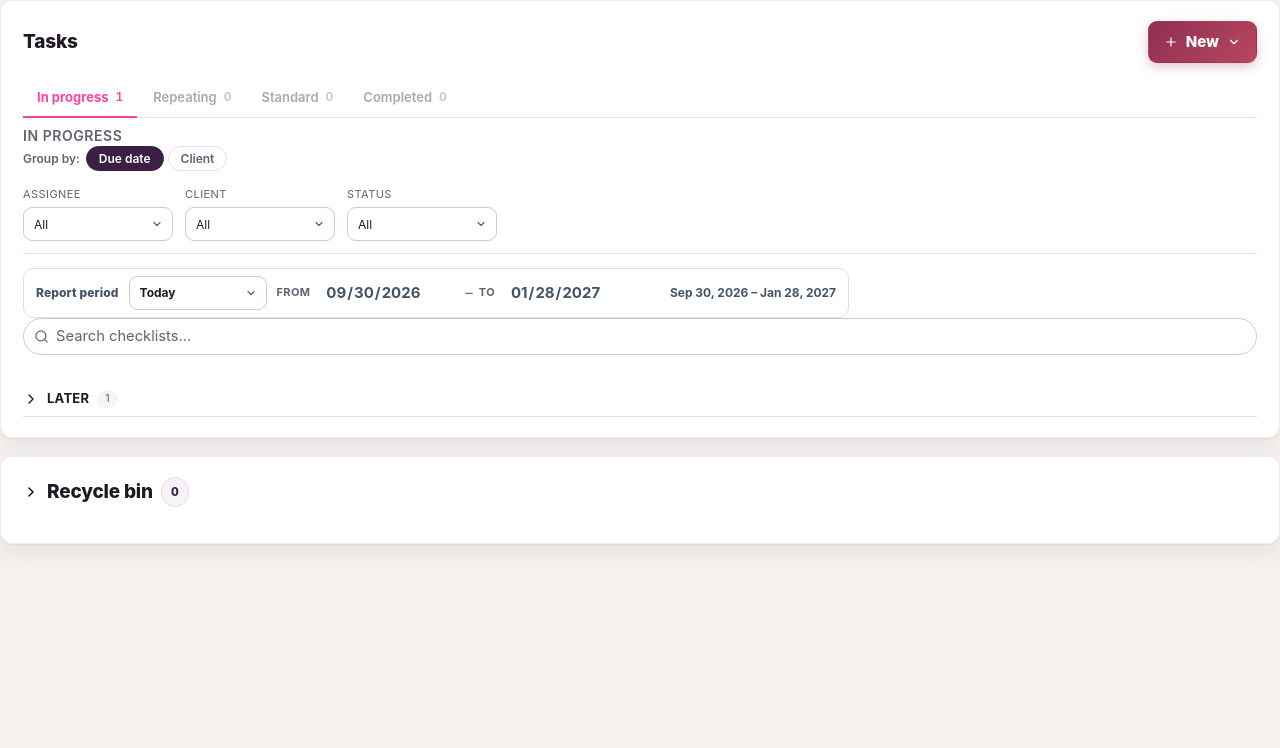
Scenario: Hide completed (N) › says "1 completed step hidden" for one
The width and height of the screenshot is (1280, 748).
Click the button "Later 1" at (68, 398), box [23,381,1257,417]
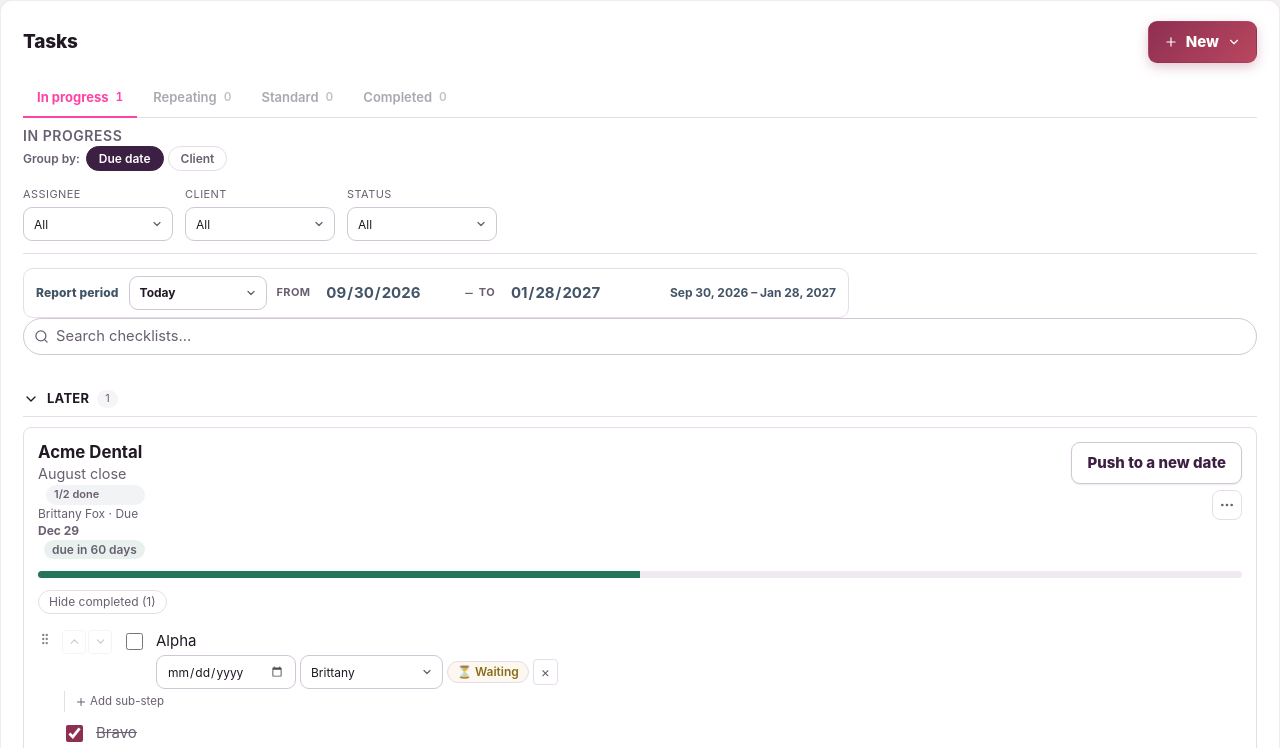
Click the button "Hide completed (1)" at (102, 602), box [38,590,166,614]
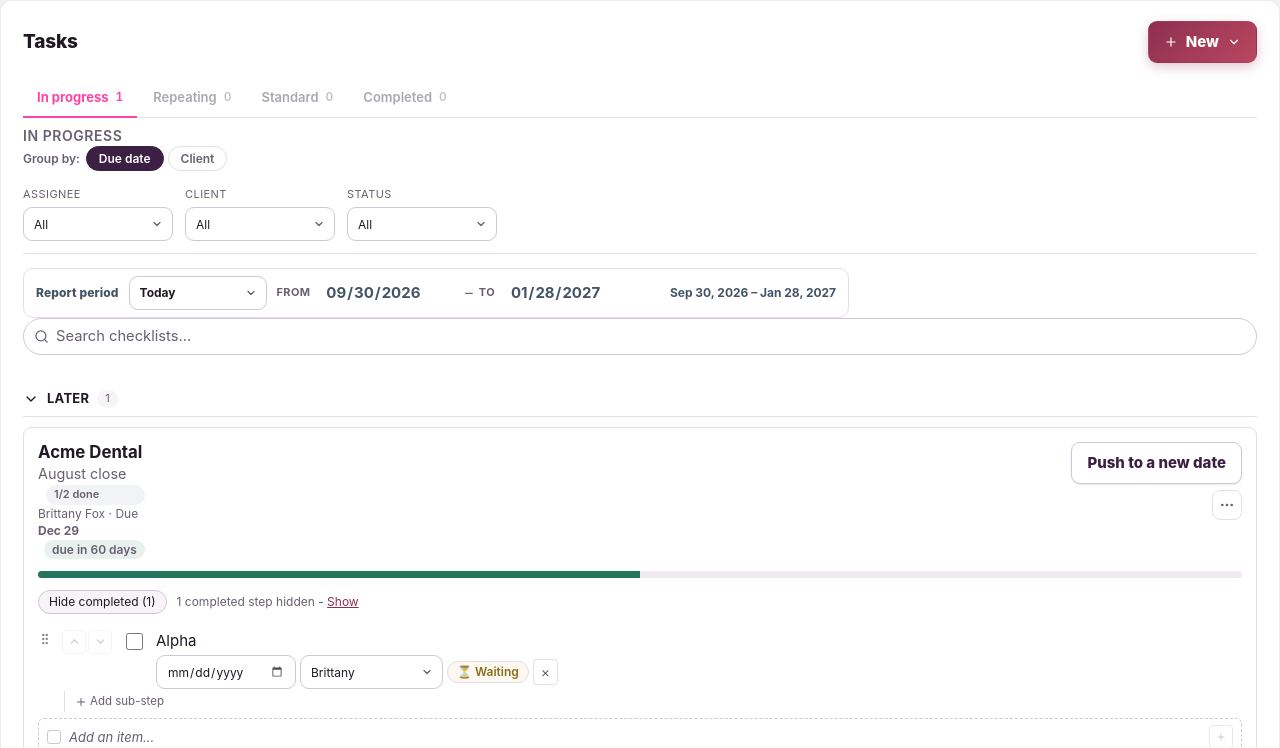
Check: the text "1 completed step hidden - Show" is shown, box [176,593,359,610]
